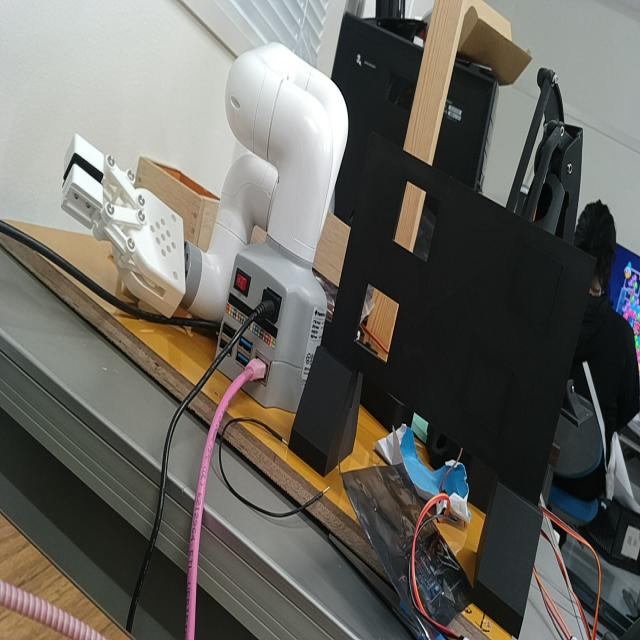Obstacle: (389, 177, 441, 259), (353, 282, 401, 364)
Wall: (328, 130, 598, 508)
